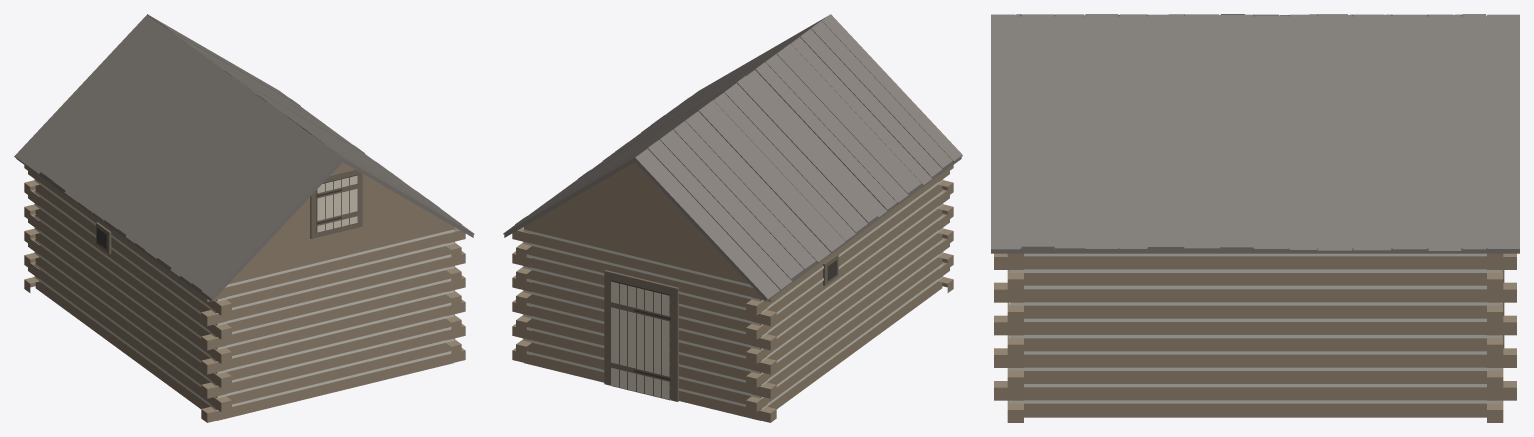
Rendered from recon_1835_blk_indiana_north_cass_a1_10__inferred_1835.glb.
3 views of the same model, side by side, from view 1: azimuth 30°, elevation 25°; view 2: azimuth 150°, elevation 25°; view 3: azimuth 270°, elevation 25° (orthographic). The views are drawn at different scales.
Visible parts, largest first — view 1: recon_1835_blk_indiana_north_cass_a1_10__inferred_1835; view 2: recon_1835_blk_indiana_north_cass_a1_10__inferred_1835; view 3: recon_1835_blk_indiana_north_cass_a1_10__inferred_1835.
Boxes of the visible parts, left/top/right/bottom form: recon_1835_blk_indiana_north_cass_a1_10__inferred_1835: left=14, top=14, right=474, bottom=422; recon_1835_blk_indiana_north_cass_a1_10__inferred_1835: left=503, top=14, right=962, bottom=422; recon_1835_blk_indiana_north_cass_a1_10__inferred_1835: left=991, top=14, right=1519, bottom=422.
Size of the model in its own units: 6.05 by 5.23 by 7.7.
